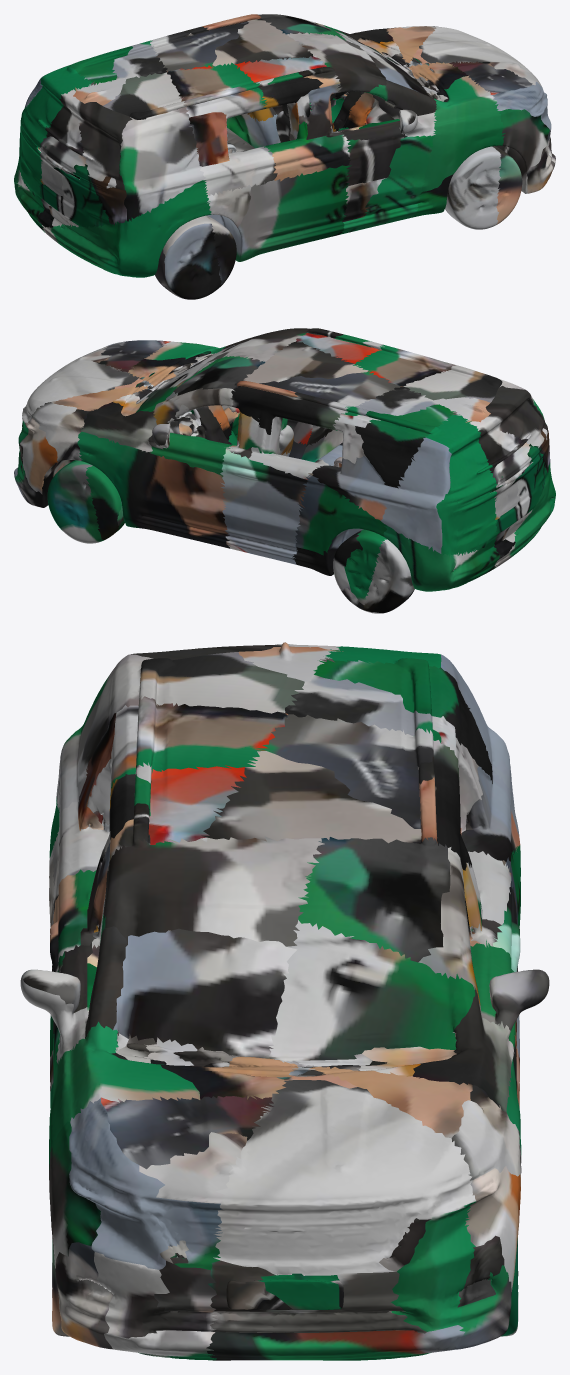
3 renders of one model, top to bottom at view 1: azimuth 30°, elevation 25°; view 2: azimuth 150°, elevation 25°; view 3: azimuth 270°, elevation 25°, orthographic. The views are drawn at different scales.
Visible parts, largest first — view 1: tripo_node_73013946-4681-4292-9e75-7df07b8fa13d; view 2: tripo_node_73013946-4681-4292-9e75-7df07b8fa13d; view 3: tripo_node_73013946-4681-4292-9e75-7df07b8fa13d.
Part boxes in pixels (bbox=[...]): tripo_node_73013946-4681-4292-9e75-7df07b8fa13d: bbox=[14, 14, 555, 299]; tripo_node_73013946-4681-4292-9e75-7df07b8fa13d: bbox=[14, 328, 555, 613]; tripo_node_73013946-4681-4292-9e75-7df07b8fa13d: bbox=[20, 642, 549, 1360].
Bounding box in the file's own units: 100 × 36.65 × 48.44.
